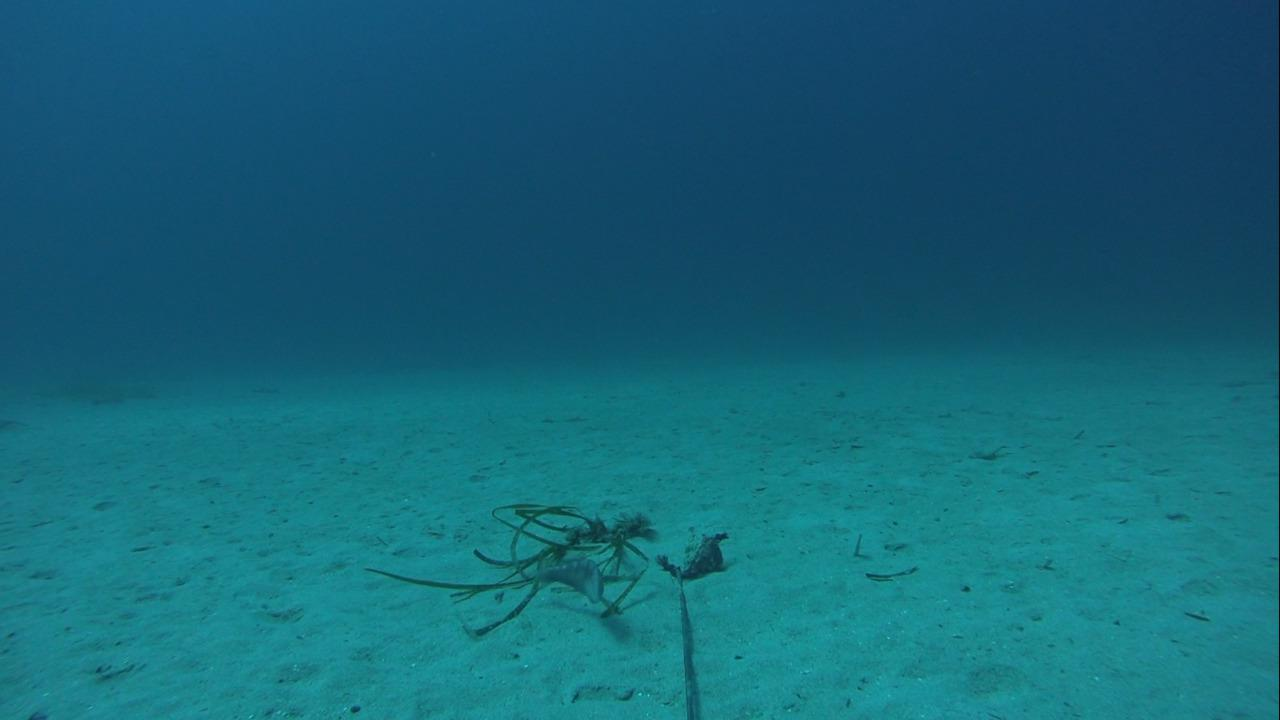raor: (525, 555, 608, 608)
